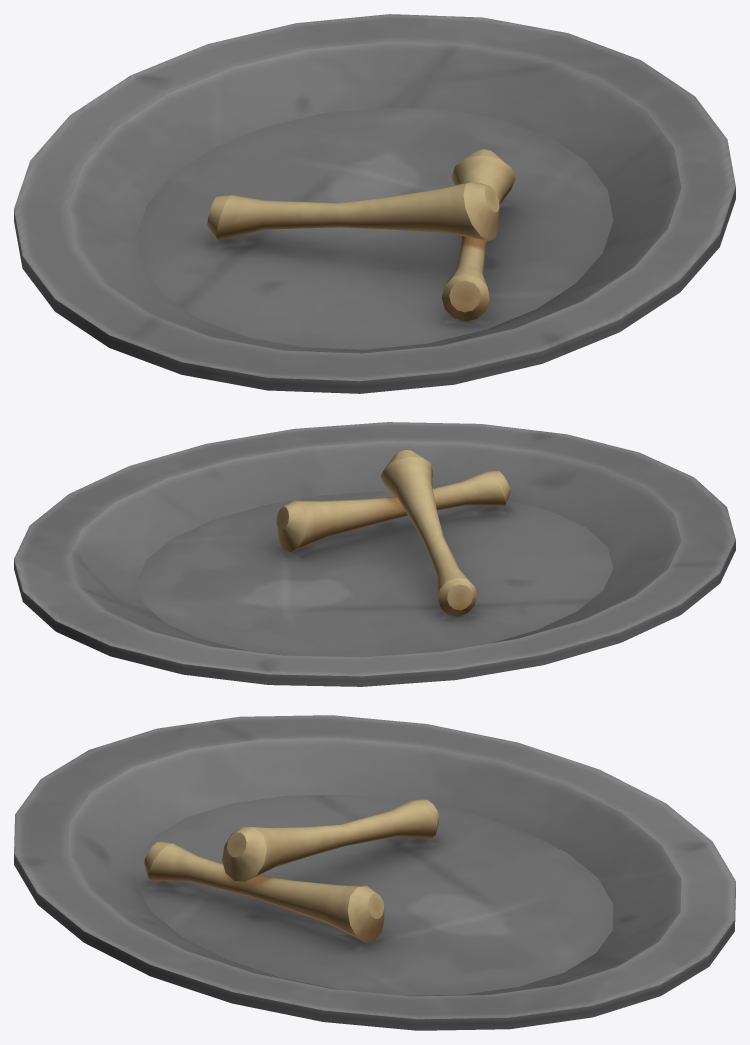
File: Prato.fbx
3 renders of one model, top to bottom at view 1: azimuth 30°, elevation 25°; view 2: azimuth 150°, elevation 25°; view 3: azimuth 270°, elevation 25°, orthographic. The views are drawn at different scales.
Visible parts, largest first — view 1: Prato; view 2: Prato; view 3: Prato.
Boxes of the visible parts, x1,y1,x2,y2 form: Prato: (14,14,735,393); Prato: (14,422,735,686); Prato: (14,715,735,1030).
Bounding box in the file's own units: 79.64 × 11.92 × 79.88.
